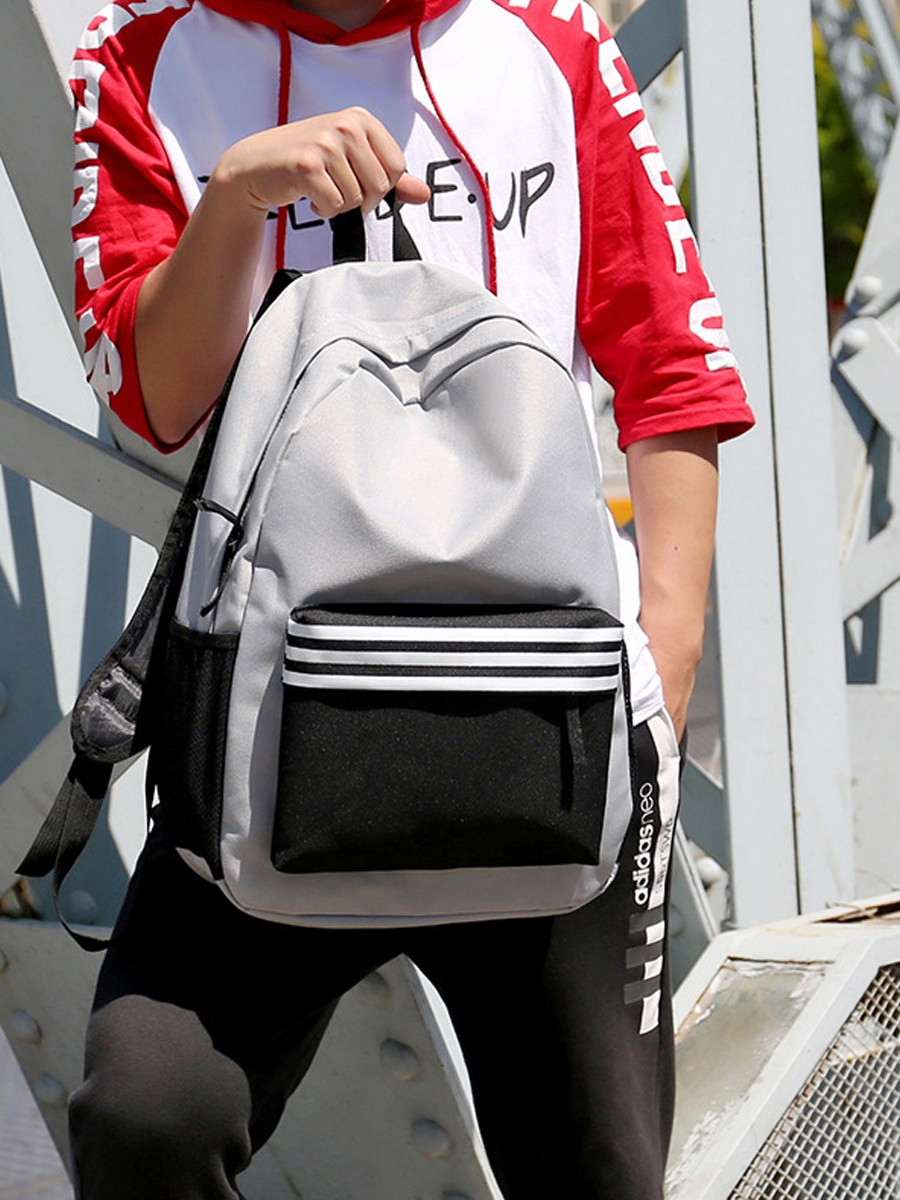Bottoms|Pants: (68, 837, 683, 1200)
Men's Backpacks: (15, 174, 674, 936)
Tops|T-shirts & Tanks: (66, 3, 759, 434)
